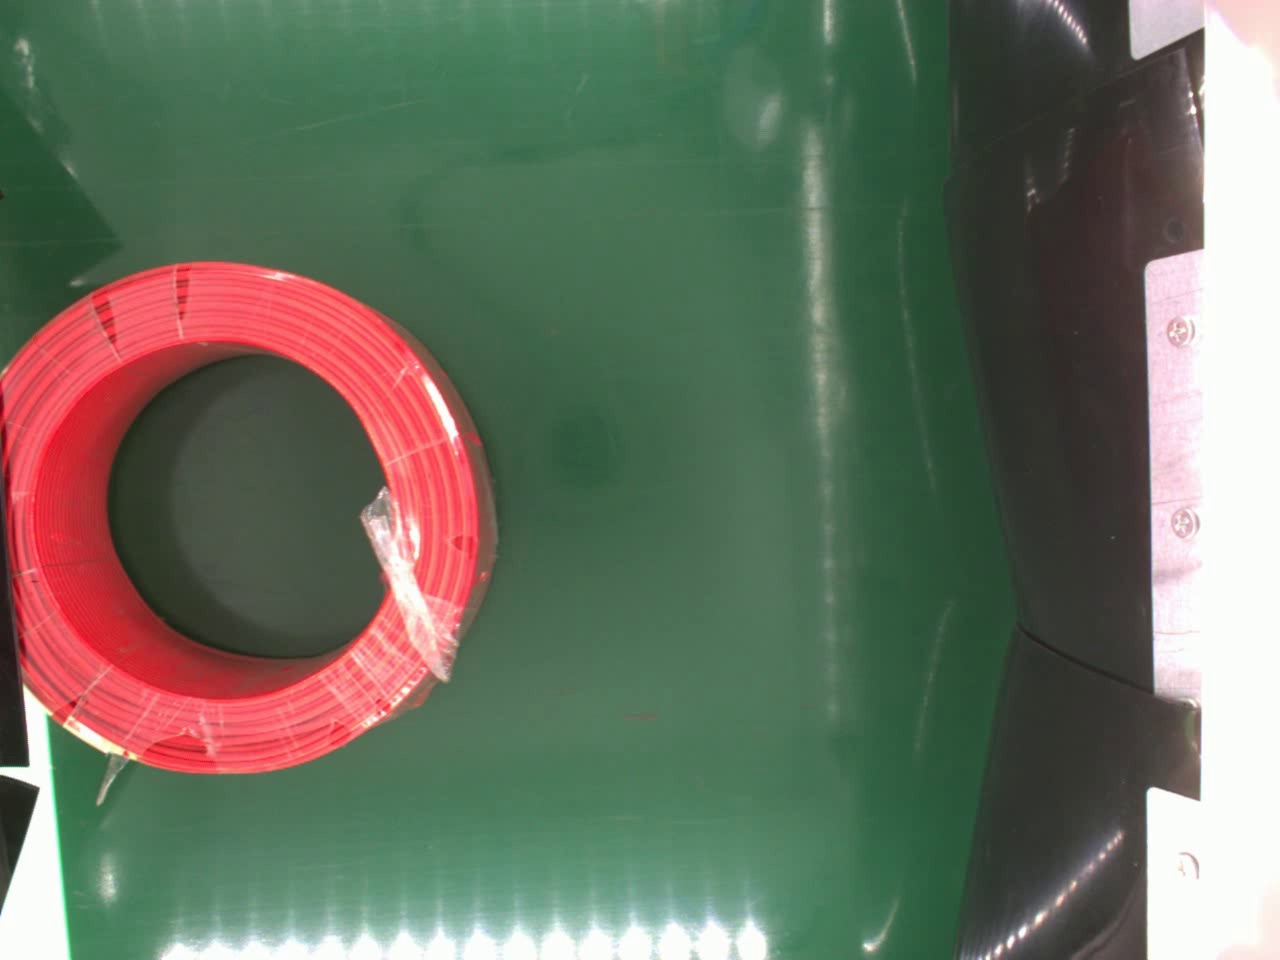red: (1, 264, 496, 783)
